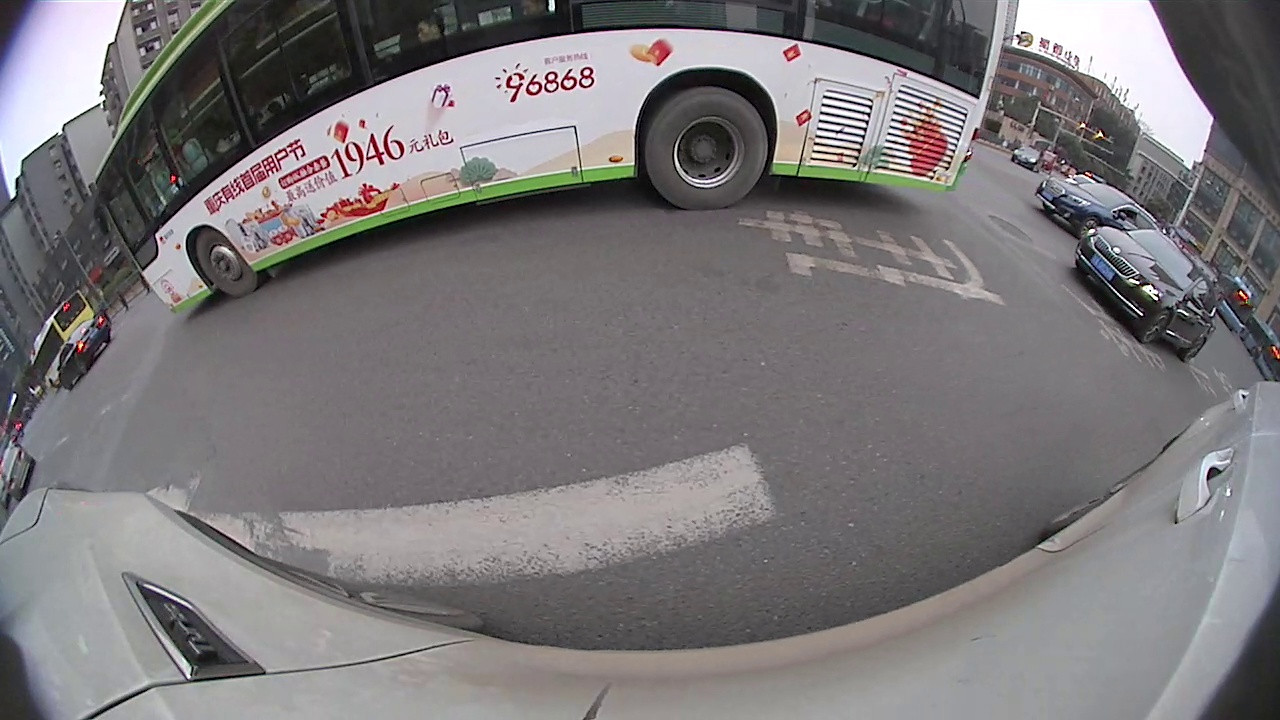bus: (88, 1, 1012, 327), (19, 290, 100, 400)
car: (1070, 225, 1223, 364), (1032, 175, 1162, 237), (50, 313, 115, 394)
front: (187, 224, 261, 300), (1136, 308, 1178, 351)
rear: (635, 83, 772, 215)
